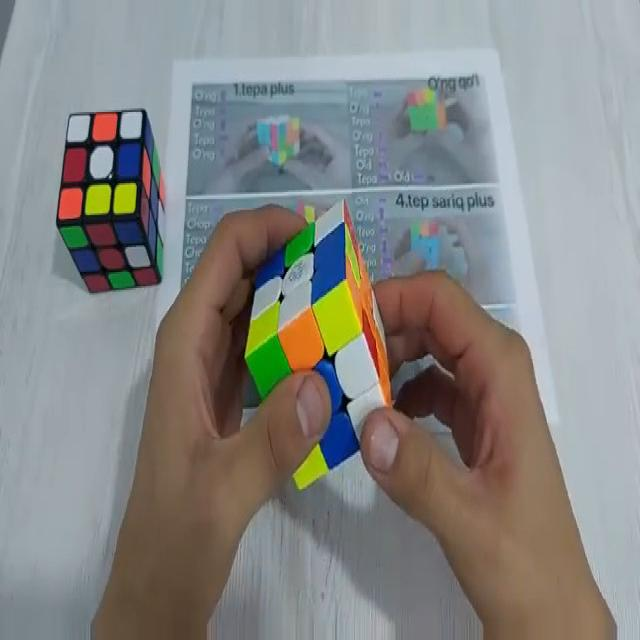Rub: (246, 197, 399, 493), (59, 108, 167, 294)
